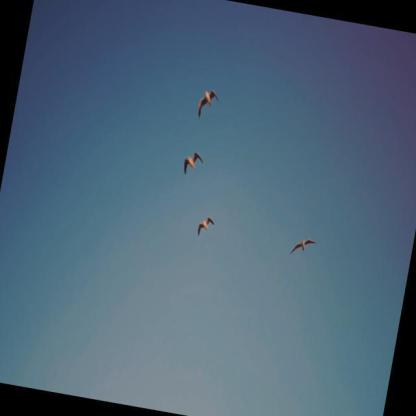bird: (194, 83, 222, 124), (287, 233, 319, 262), (180, 148, 205, 179), (194, 212, 217, 240)
